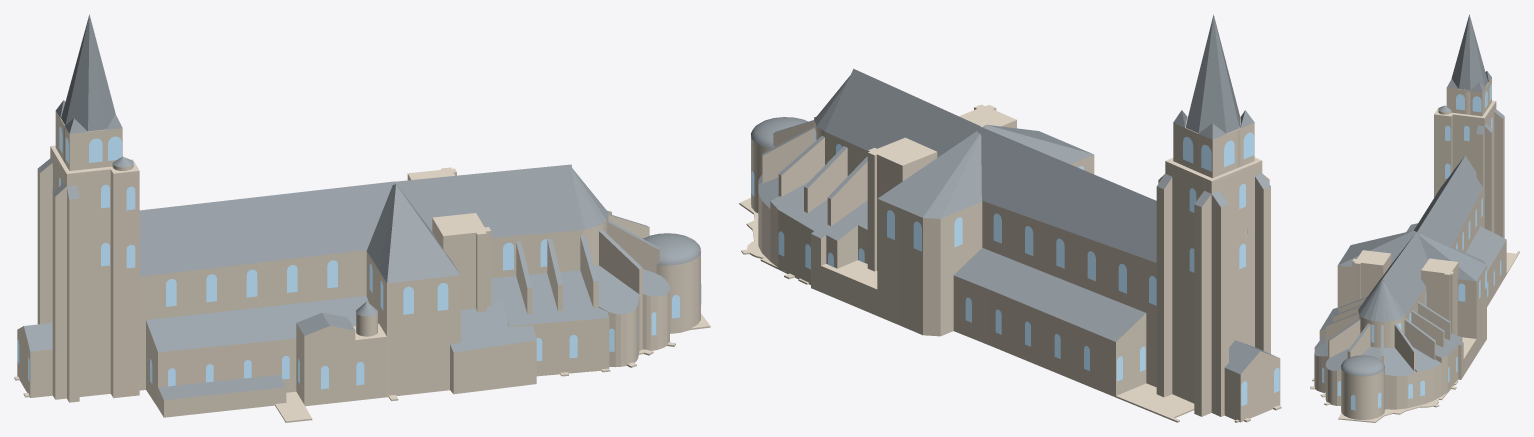
File: detail.glb
3 views of the same model, side by side, from view 1: azimuth 30°, elevation 25°; view 2: azimuth 150°, elevation 25°; view 3: azimuth 270°, elevation 25° (orthographic). The views are drawn at different scales.
Visible parts, largest first — view 1: stone, roof, window; view 2: stone, roof, window; view 3: stone, roof, window.
Boxes of the visible parts, <box> form: stone: <box>14,111,710,422</box>; roof: <box>24,14,700,399</box>; window: <box>17,126,701,389</box>; stone: <box>739,104,1281,422</box>; roof: <box>751,14,1277,374</box>; window: <box>751,129,1279,406</box>; stone: <box>1310,78,1519,422</box>; roof: <box>1314,14,1506,376</box>; window: <box>1322,84,1501,410</box>.
Size of the model in its own units: 102 by 60 by 47.61.
